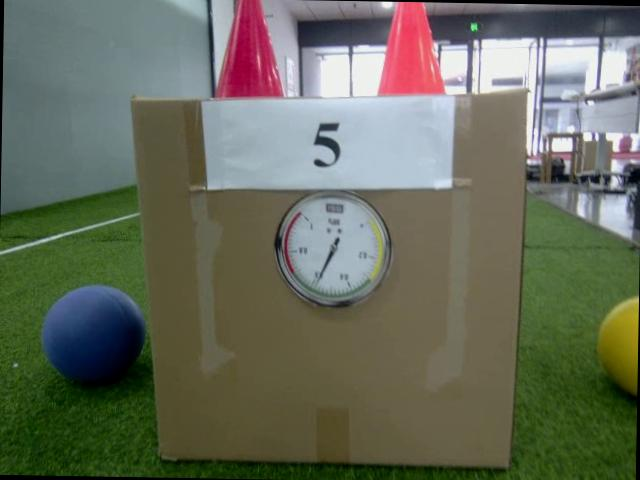5: (308, 118, 342, 170)
Dashboard: (274, 187, 394, 311)
blue_ball: (42, 284, 146, 387)
orange_barrel: (378, 1, 450, 97)
red_barrel: (210, 0, 291, 101)
ssi: (324, 200, 346, 214)
yellow_ball: (595, 294, 639, 398)
